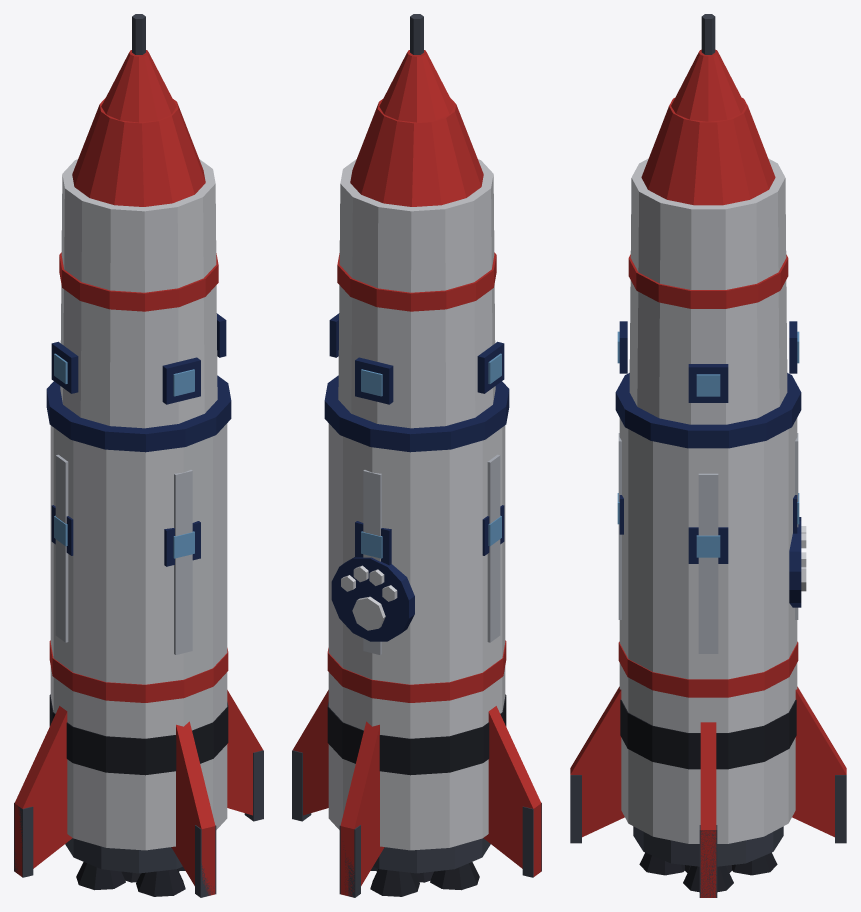
File: Decor_LaunchPad_Rocket.fbx
3 renders of one model, left to right at view 1: azimuth 30°, elevation 25°; view 2: azimuth 150°, elevation 25°; view 3: azimuth 270°, elevation 25°, orthographic.
Parts seen in each view (by area): view 1: Rocket_Body; view 2: Rocket_Body; view 3: Rocket_Body.
Part boxes in pixels (x1,y1,x2,y2): Rocket_Body: [14, 14, 263, 897]; Rocket_Body: [292, 14, 541, 897]; Rocket_Body: [570, 14, 846, 897].
Bounding box in the file's own units: 14 × 47.4 × 14.
